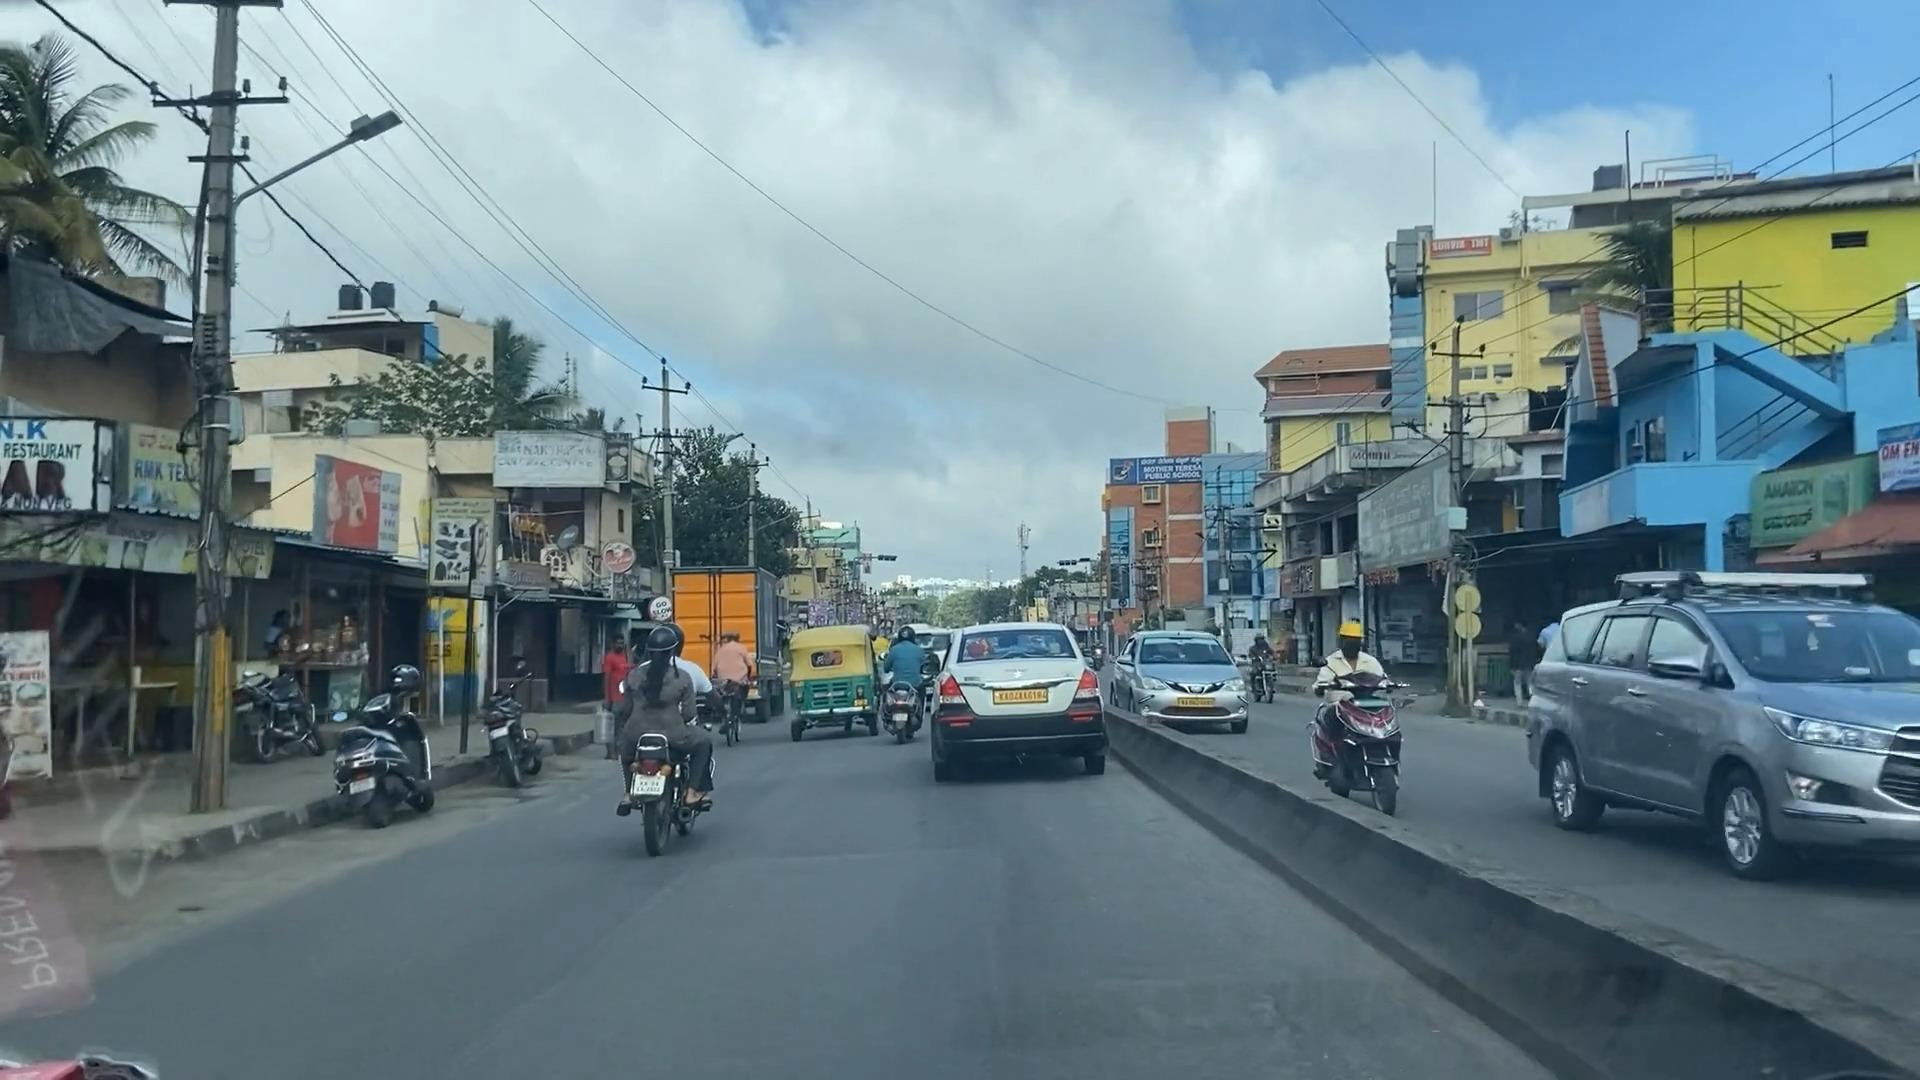LMV: (628, 612, 702, 880), (782, 628, 868, 741), (882, 615, 930, 741)
